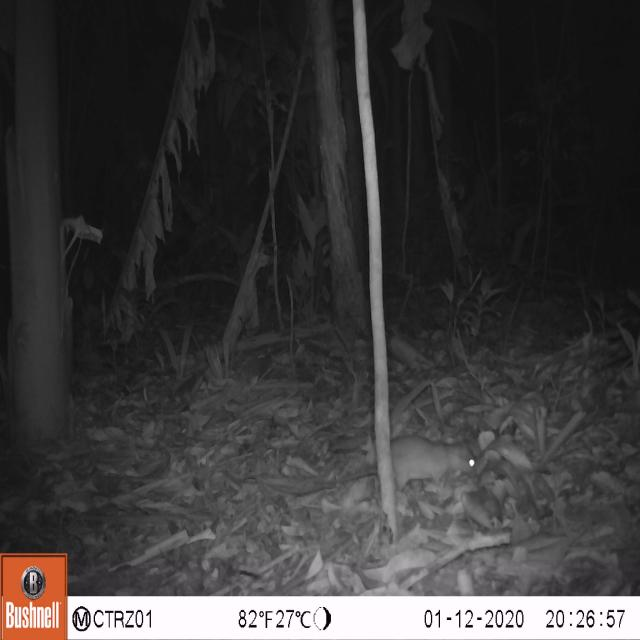Rodent: (355, 413, 505, 520)
